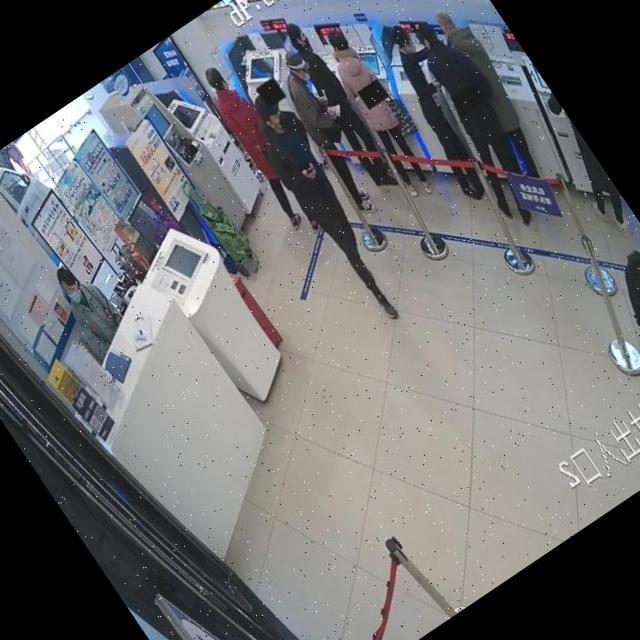person: (233, 81, 422, 328), (385, 6, 565, 230), (399, 10, 561, 212), (364, 20, 511, 208), (422, 0, 564, 184), (309, 24, 448, 204), (193, 59, 330, 240), (262, 42, 399, 218), (262, 46, 398, 220), (275, 18, 407, 194), (513, 71, 640, 239), (575, 236, 640, 456), (47, 254, 132, 352)
